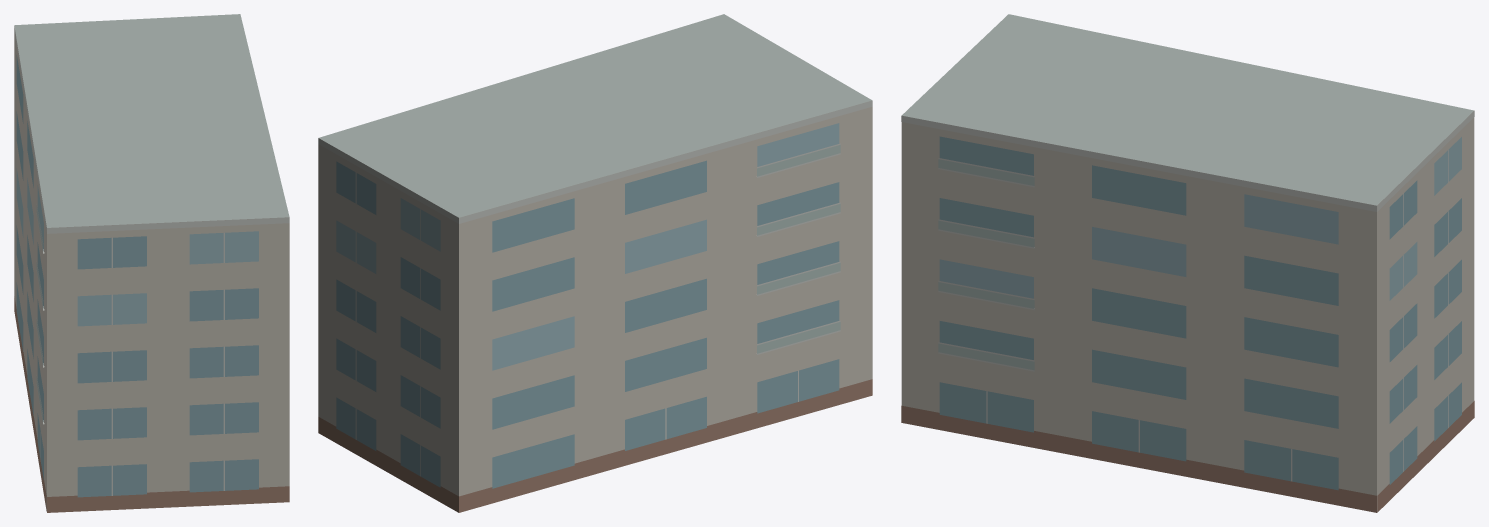
The model's file is survey-upis-32965212.glb.
The picture shows the model from 3 angles, left to right: view 1: azimuth 30°, elevation 25°; view 2: azimuth 150°, elevation 25°; view 3: azimuth 270°, elevation 25°; orthographic projection. The views are drawn at different scales.
Parts seen in each view (by area): view 1: survey-upis-32965212.tmp; view 2: survey-upis-32965212.tmp; view 3: survey-upis-32965212.tmp.
Part boxes in pixels (x1,y1,x2,y2): survey-upis-32965212.tmp: (14,14,289,512); survey-upis-32965212.tmp: (318,14,872,512); survey-upis-32965212.tmp: (901,14,1474,512).
Size of the model in its own units: 15.67 by 11.7 by 19.79.
